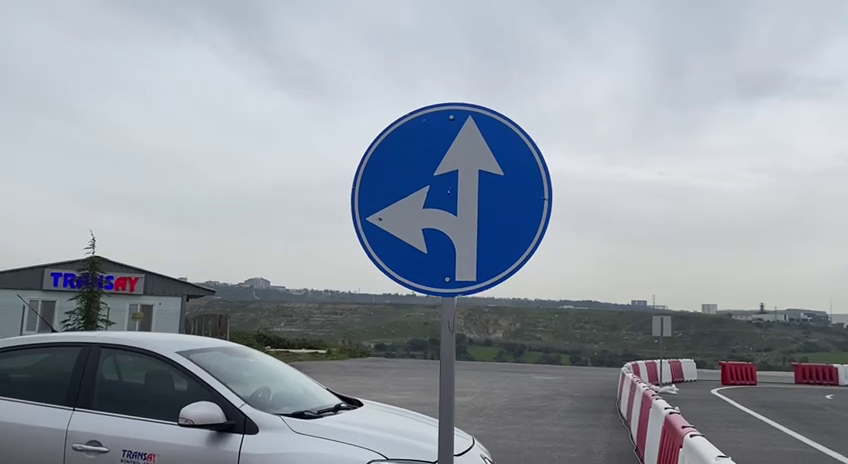forwardAndLeft: (344, 96, 557, 302)
